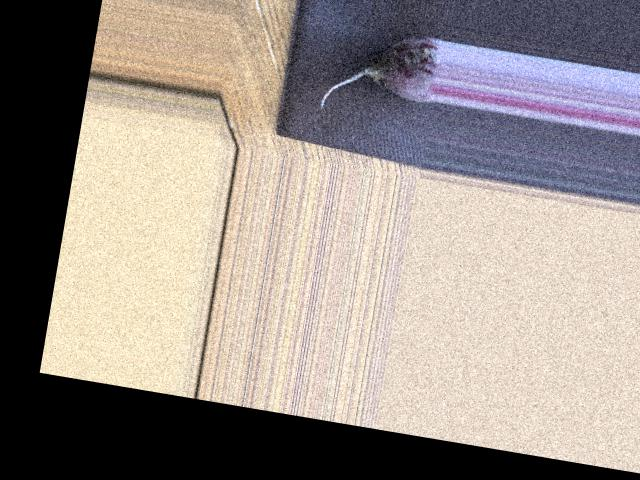beet: (319, 21, 443, 125)
